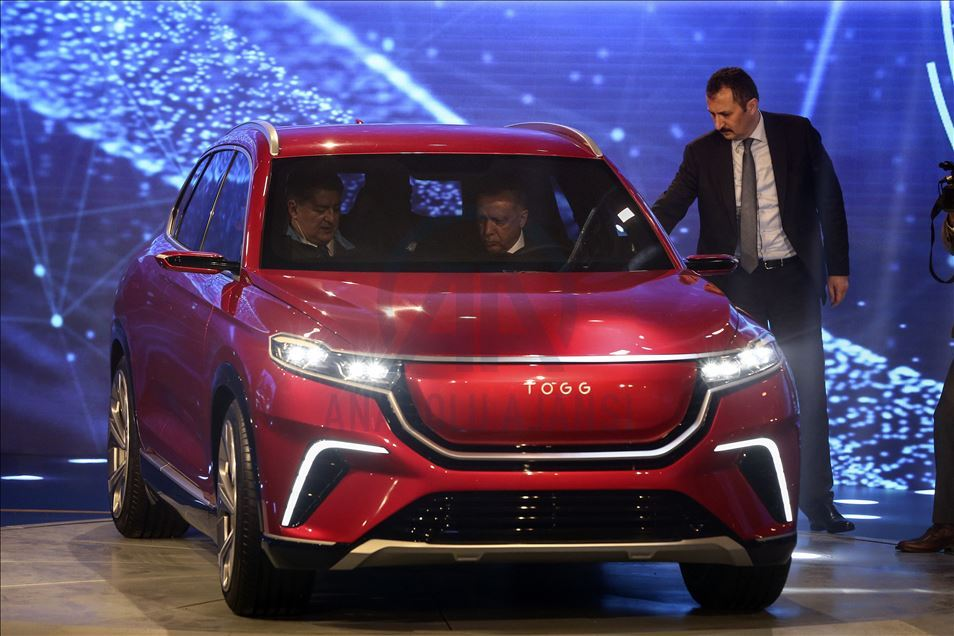araba: (110, 121, 804, 611)
